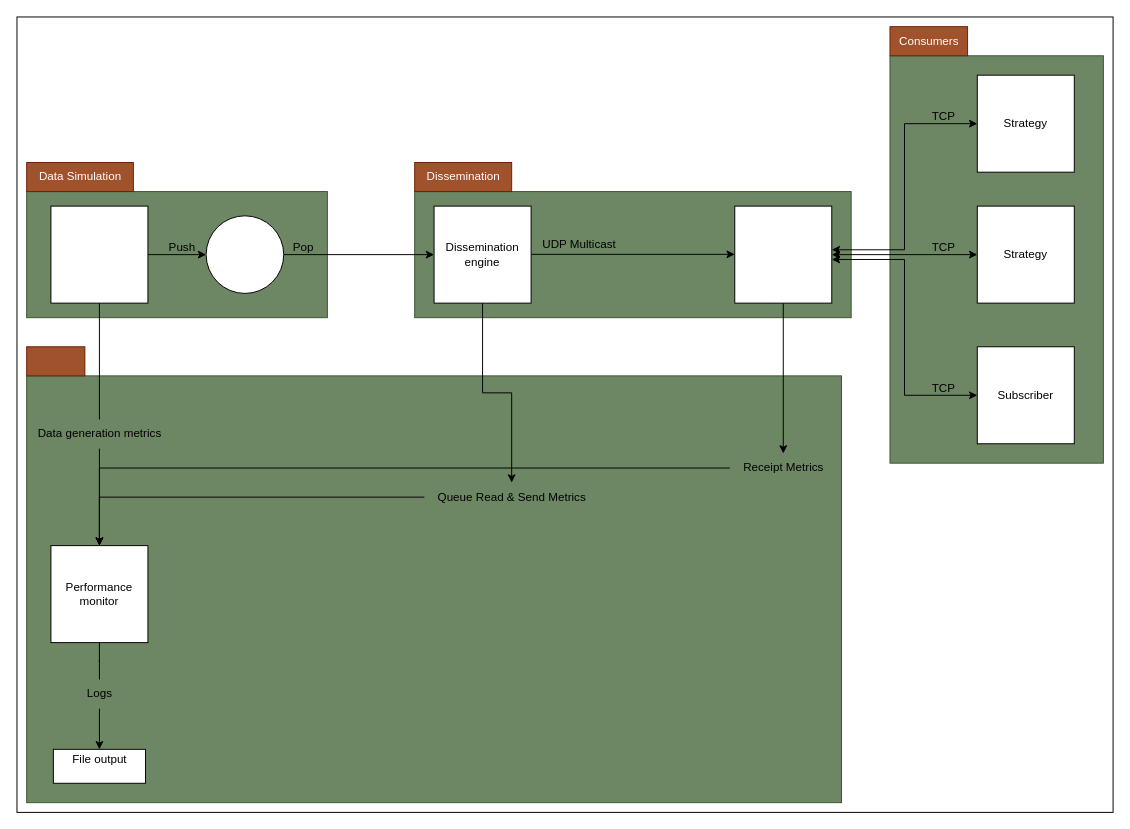
Some shapes in this 1130 by 829 pixel diagram are drawn without their labels. Each missing label, with the centre of its shape:
Lock-free queue: the point at 244,254
Logging: the point at 55,361
Market data generator: the point at 99,254
Subscriber interface: the point at 783,254
